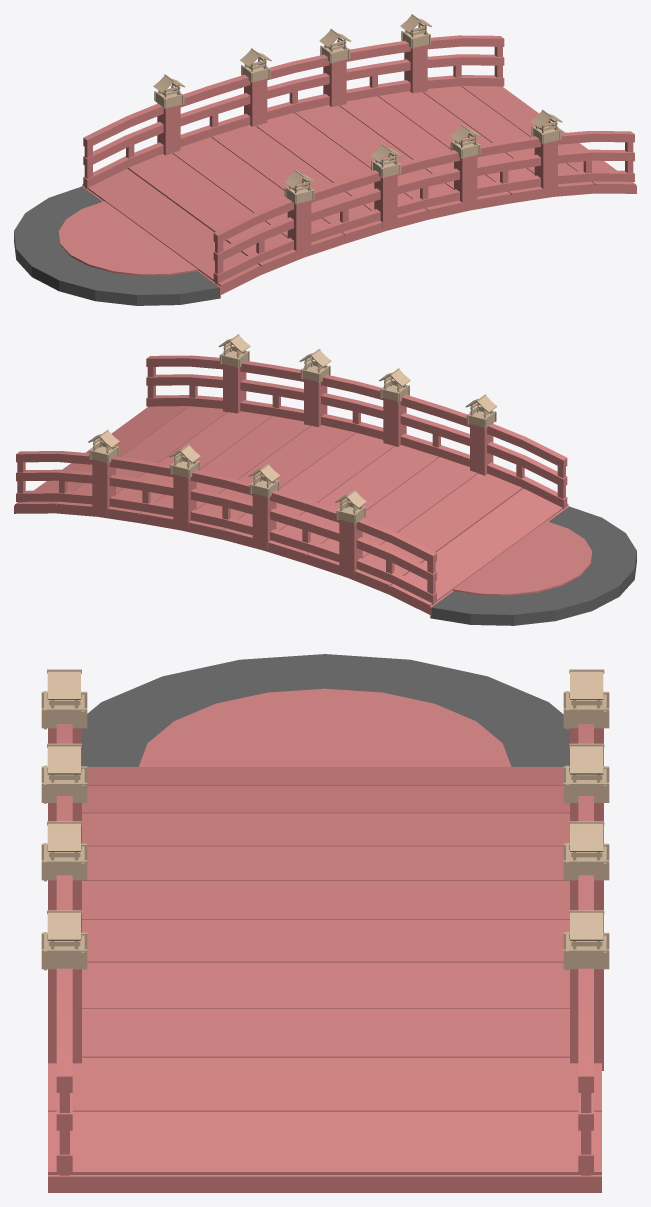
File: mainGateDrawBridge.fbx
The picture shows the model from 3 angles, top to bottom: view 1: azimuth 30°, elevation 25°; view 2: azimuth 150°, elevation 25°; view 3: azimuth 270°, elevation 25°; orthographic projection. The views are drawn at different scales.
Visible parts, largest first — view 1: pCube1, pCylinder1, pCube12 (×8), pCylinder2, pCube5, pCube4, pCube7, pCube6, pCube3, pCube2; view 2: pCube1, pCylinder1, pCube12 (×8), pCylinder2, pCube5, pCube4, pCube2, pCube7, pCube6, pCube3; view 3: pCube1, pCylinder1, pCylinder2, pCube35 (×8), pCube46 (×8), pCube12 (×2), pCube2, pCube3.
Part boxes in pixels (x1,y1,x2,y2): pCube1: (81,86,636,295); pCylinder1: (14,186,220,305); pCube12 (×8): (157,44,557,254); pCylinder2: (58,201,198,275); pCube5: (83,54,504,167); pCube4: (213,149,634,262); pCube7: (83,75,504,187); pCube6: (213,170,634,283); pCube3: (83,35,504,148); pCube2: (213,131,634,243); pCube1: (14,406,569,615); pCylinder1: (430,506,636,625); pCube12 (×8): (92,364,493,574); pCylinder2: (452,521,592,595); pCube5: (16,469,436,582); pCube4: (146,374,567,487); pCube2: (146,355,567,468); pCube7: (16,490,436,603); pCube6: (146,395,567,507); pCube3: (16,451,436,563); pCube1: (48,767,601,1192); pCylinder1: (82,654,569,766); pCylinder2: (139,688,511,766); pCube35 (×8): (47,671,603,940); pCube46 (×8): (41,708,609,969); pCube12 (×2): (48,969,603,1070); pCube2: (56,724,72,1092); pCube3: (578,724,593,1092).
Size of the model in its own units: 68.81 by 13.14 by 31.56.
